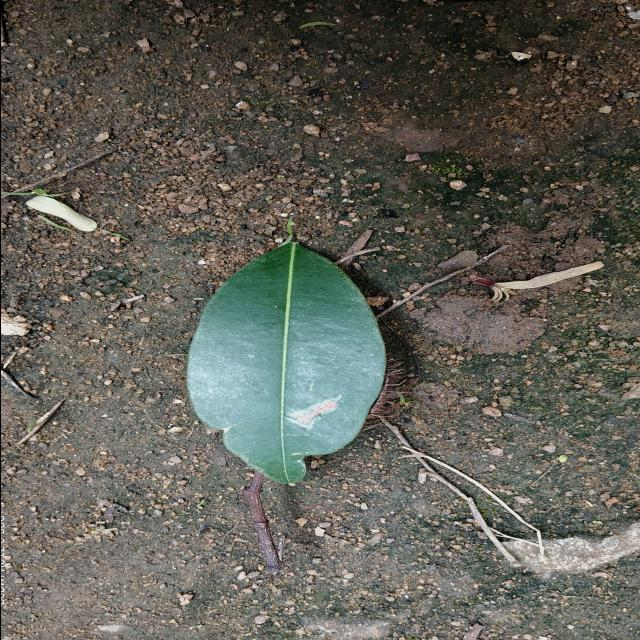leaf: (185, 221, 387, 486)
